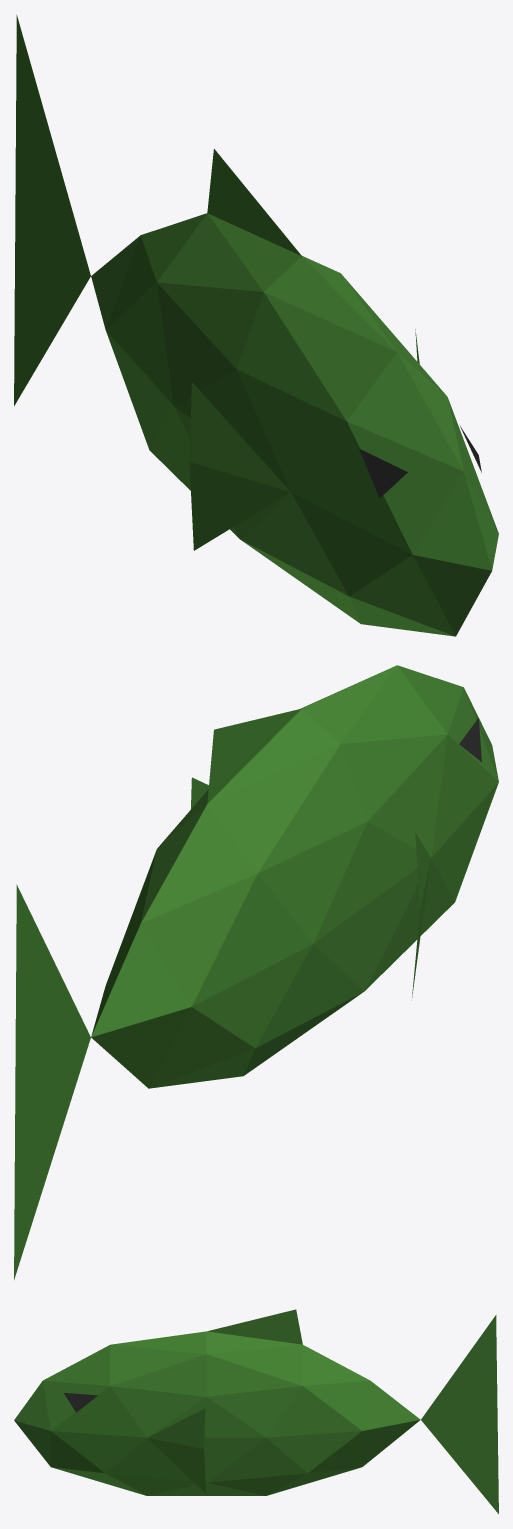
Rendered from fih.fbx.
The picture shows the model from 3 angles, top to bottom: view 1: azimuth 30°, elevation 25°; view 2: azimuth 150°, elevation 25°; view 3: azimuth 270°, elevation 25°; orthographic projection. The views are drawn at different scales.
Parts seen in each view (by area): view 1: Fish; view 2: Fish; view 3: Fish.
Part boxes in pixels (x1,y1,x2,y2): Fish: (14,15,498,636); Fish: (14,665,498,1279); Fish: (14,1309,498,1513).
Size of the model in its own units: 138 by 231 by 494.
